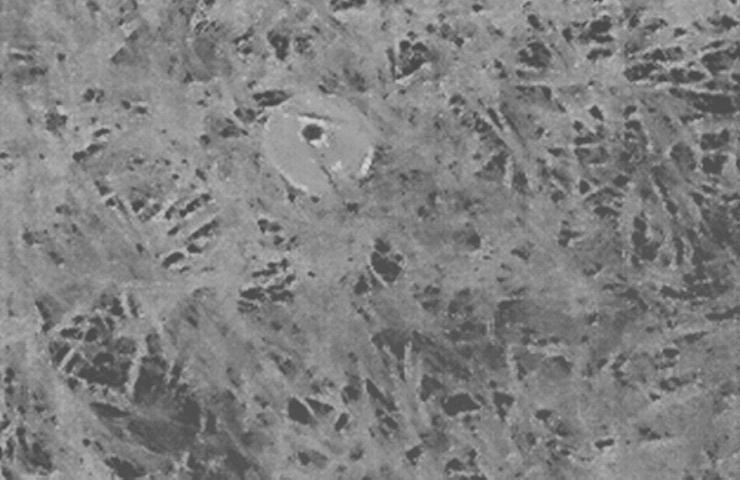landmines: (257, 85, 382, 202)
